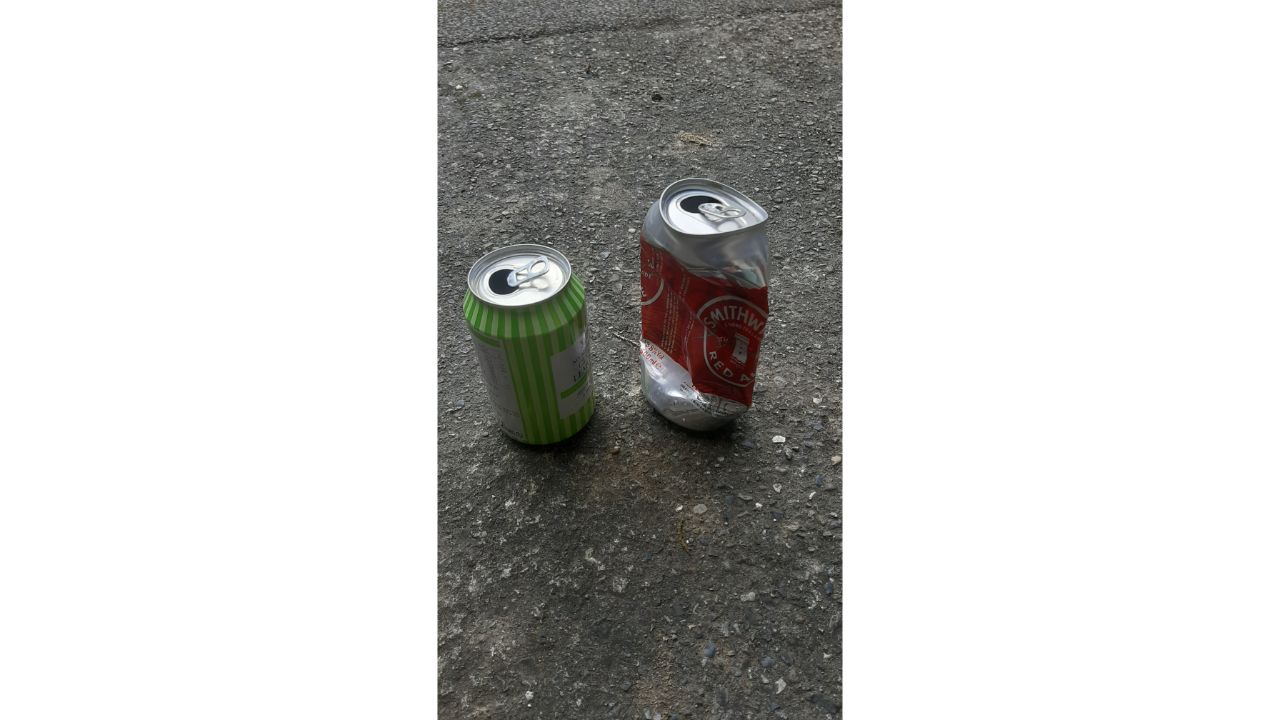Can: (630, 172, 777, 446), (459, 236, 600, 450)
